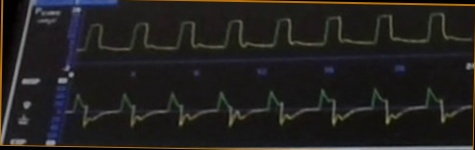Premature_cycling Flow: (68, 79, 470, 141)
